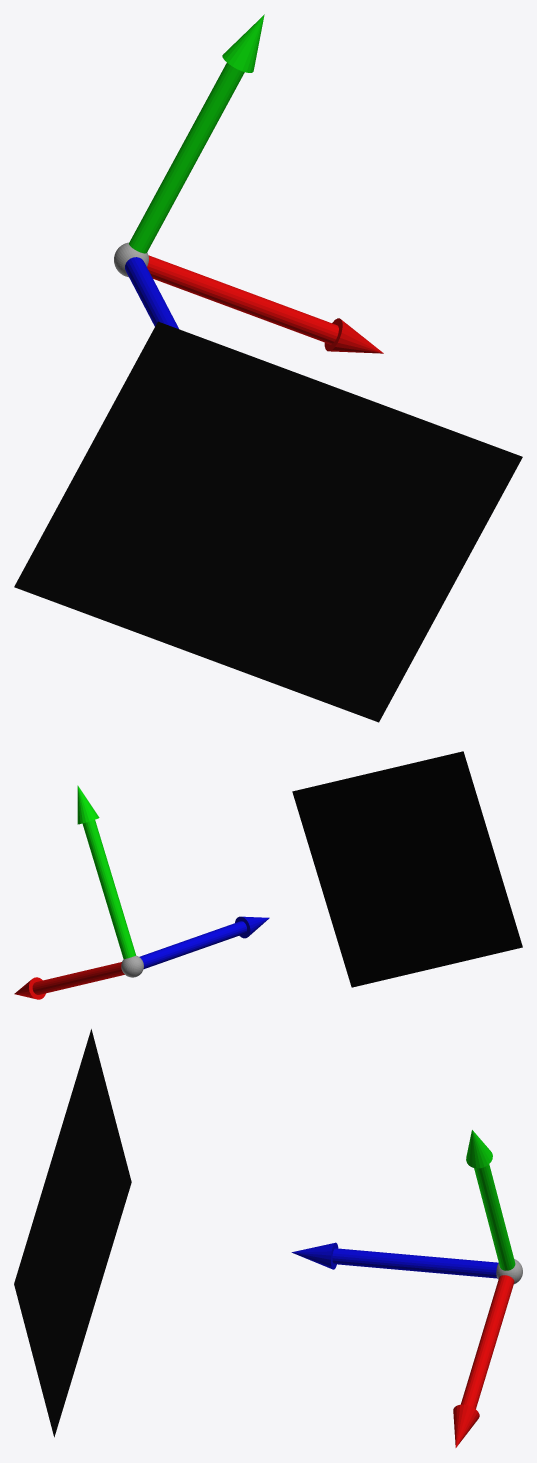
3 renders of one model, top to bottom at view 1: azimuth 30°, elevation 25°; view 2: azimuth 150°, elevation 25°; view 3: azimuth 270°, elevation 25°, orthographic. The views are drawn at different scales.
Size of the model in its own units: 0.2846 by 0.2223 by 0.2793.
